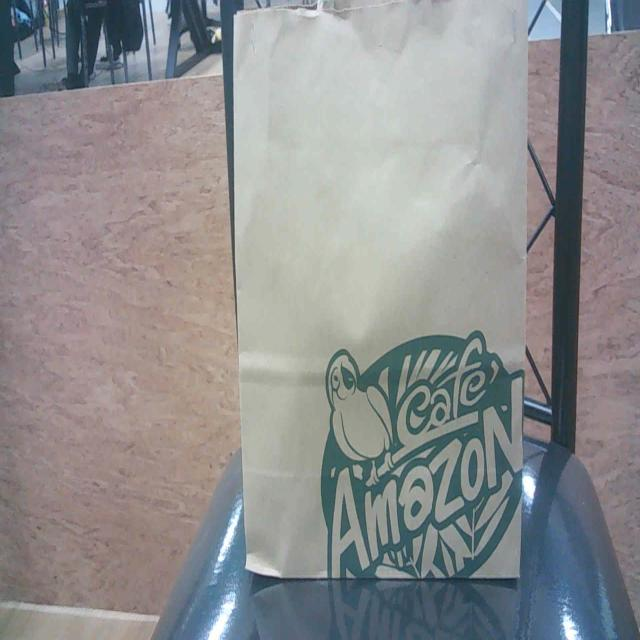bag: (238, 14, 517, 577)
